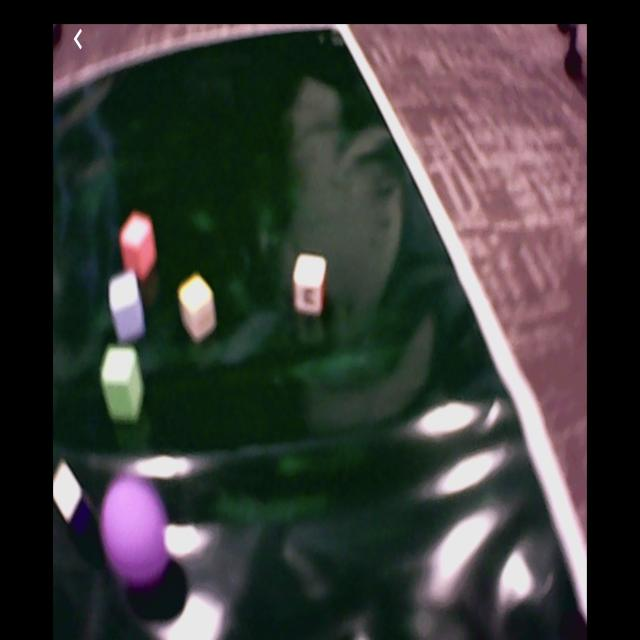ball: (101, 473, 171, 583)
